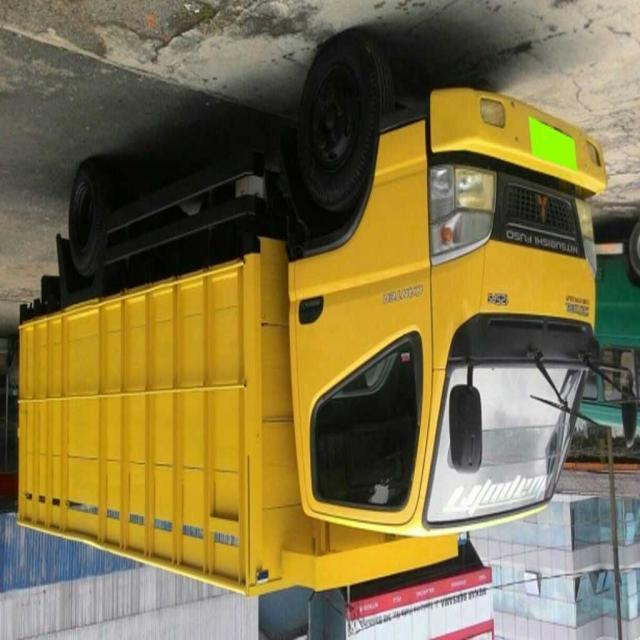Truck: (12, 42, 640, 600)
